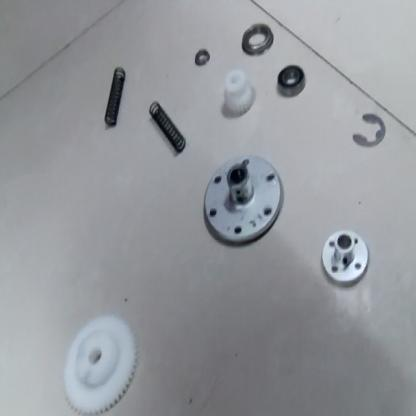FOD: (58, 312, 142, 415), (202, 152, 286, 252), (317, 226, 373, 289), (148, 94, 188, 157), (102, 65, 133, 131), (221, 68, 255, 124), (349, 110, 389, 148), (241, 21, 274, 60), (276, 64, 307, 96), (194, 48, 212, 70)
